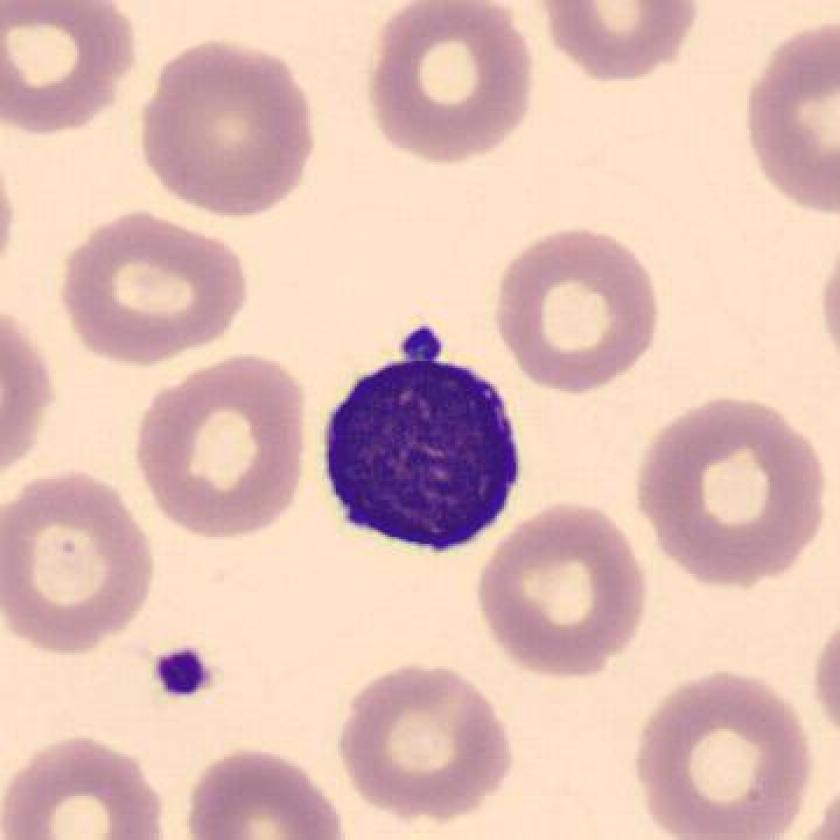lymphocyte: (302, 318, 542, 577)
